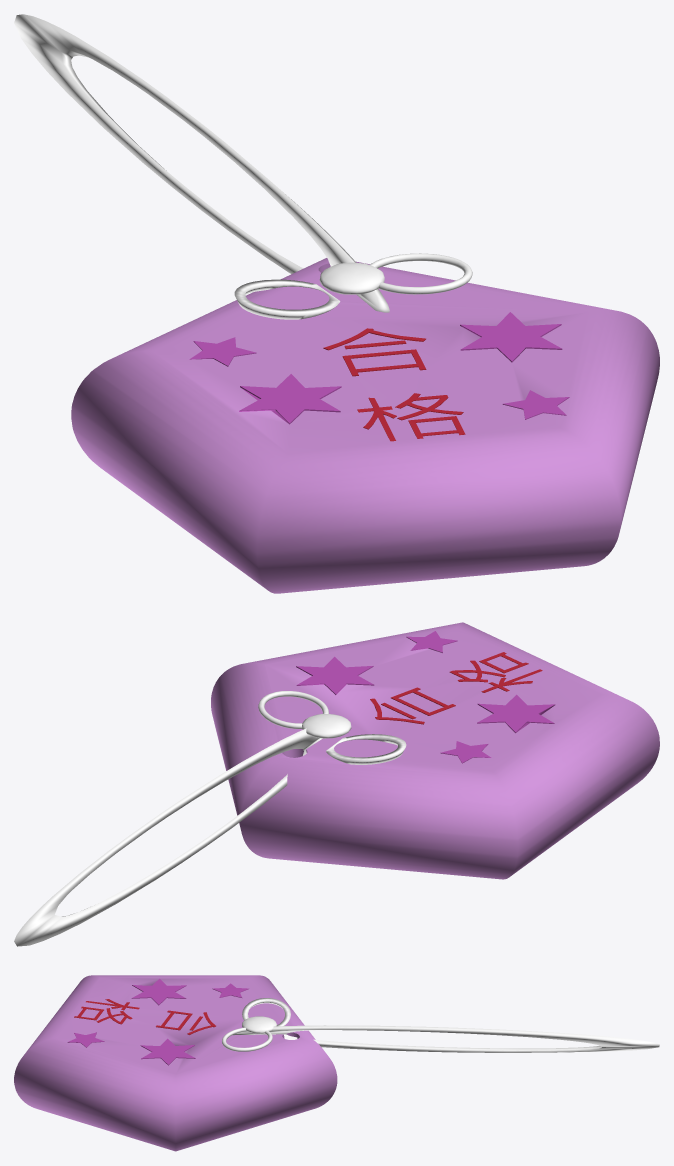
The picture shows the model from 3 angles, top to bottom: view 1: azimuth 30°, elevation 25°; view 2: azimuth 150°, elevation 25°; view 3: azimuth 270°, elevation 25°; orthographic projection. The views are drawn at different scales.
Visible parts, largest first — view 1: ChamferCyl001, Torus Knot003, Sphere001, Torus Knot002; view 2: ChamferCyl001, Torus Knot003, Sphere001, Torus Knot002; view 3: ChamferCyl001, Torus Knot003, Sphere001, Torus Knot002.
Part boxes in pixels (x1,y1,x2,y2): ChamferCyl001: (71, 258, 659, 593); Torus Knot003: (14, 14, 389, 312); Sphere001: (319, 262, 384, 294); Torus Knot002: (370, 253, 472, 294); ChamferCyl001: (211, 622, 659, 879); Torus Knot003: (14, 728, 322, 946); Sphere001: (302, 714, 351, 738); Torus Knot002: (258, 691, 328, 728); ChamferCyl001: (14, 975, 337, 1151); Torus Knot003: (232, 1025, 659, 1052); Sphere001: (242, 1016, 276, 1033); Torus Knot002: (222, 1027, 272, 1051).
Size of the model in its own units: 0.9007 by 0.281 by 1.89.
